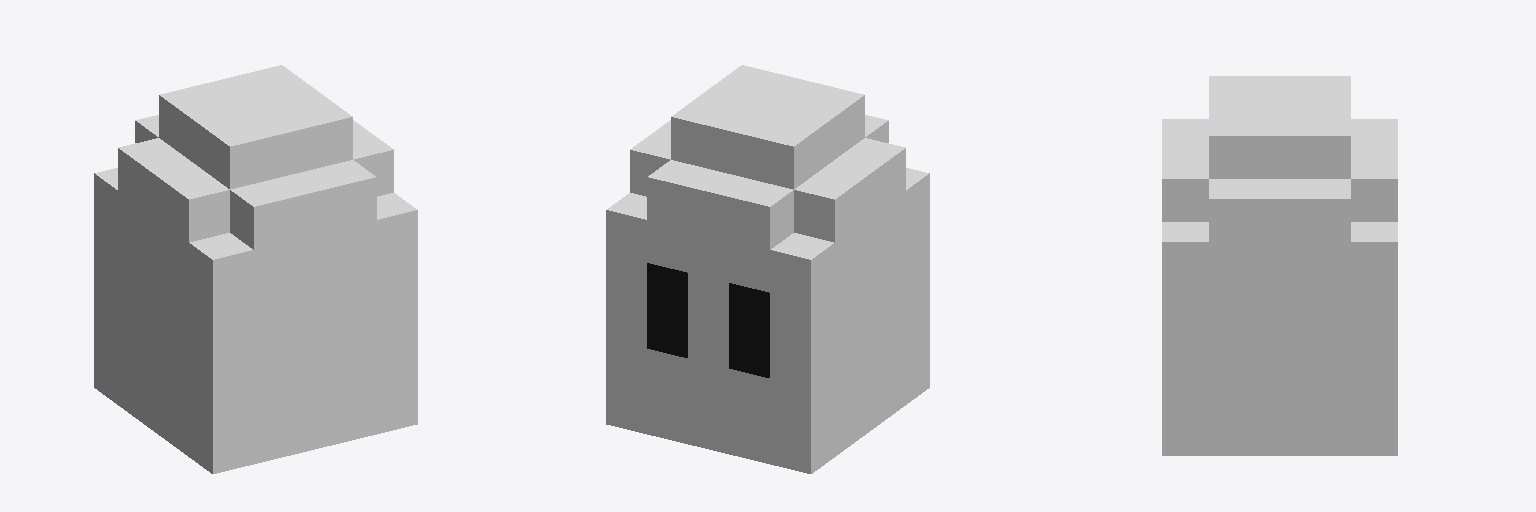
The picture shows the model from 3 angles: view 1: azimuth 30°, elevation 25°; view 2: azimuth 150°, elevation 25°; view 3: azimuth 270°, elevation 25°; orthographic projection.
Visible parts, largest first — view 1: Untitled.001; view 2: Untitled.001; view 3: Untitled.001.
Part boxes in pixels (bbox=[...]): Untitled.001: bbox=[94, 65, 417, 473]; Untitled.001: bbox=[606, 65, 929, 473]; Untitled.001: bbox=[1162, 76, 1397, 455].
Bounding box in the file's own units: 0.5 × 0.7 × 0.5.
Materials: 1 (1 with a texture image).